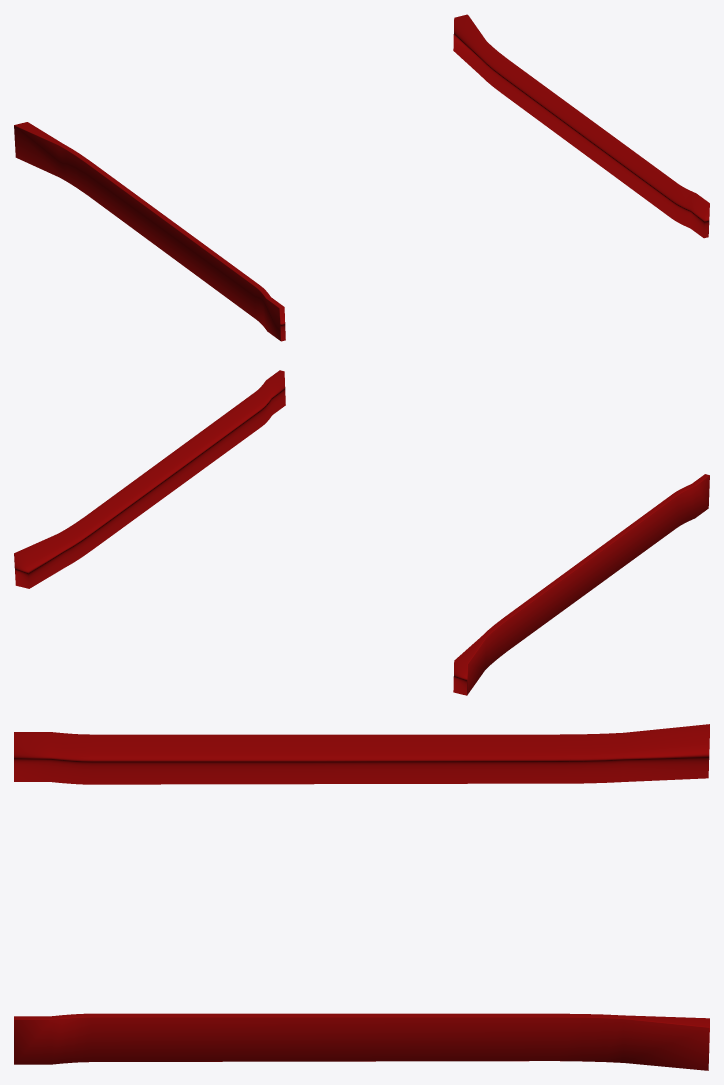
File: sideskirts_rocketbunnyv1.glb
3 views of the same model, one above another, from view 1: azimuth 30°, elevation 25°; view 2: azimuth 150°, elevation 25°; view 3: azimuth 270°, elevation 25° (orthographic). The views are drawn at different scales.
Parts seen in each view (by area): view 1: Sideskirts; view 2: Sideskirts; view 3: Sideskirts.
Boxes of the visible parts, box(x1,y1,x2,y2) form: Sideskirts: box(14, 14, 709, 341); Sideskirts: box(14, 370, 709, 695); Sideskirts: box(14, 724, 709, 1070).
Bounding box in the file's own units: 1.77 × 0.1255 × 1.72.
